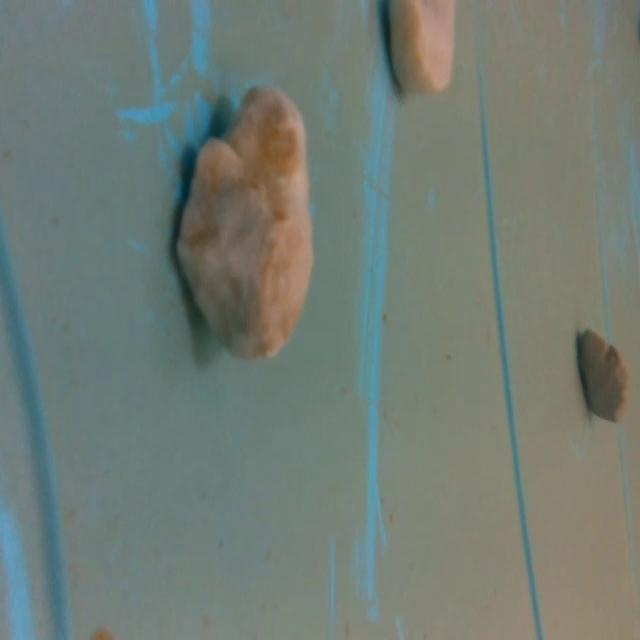rock: (171, 74, 320, 369), (380, 0, 457, 101), (569, 321, 625, 427)
